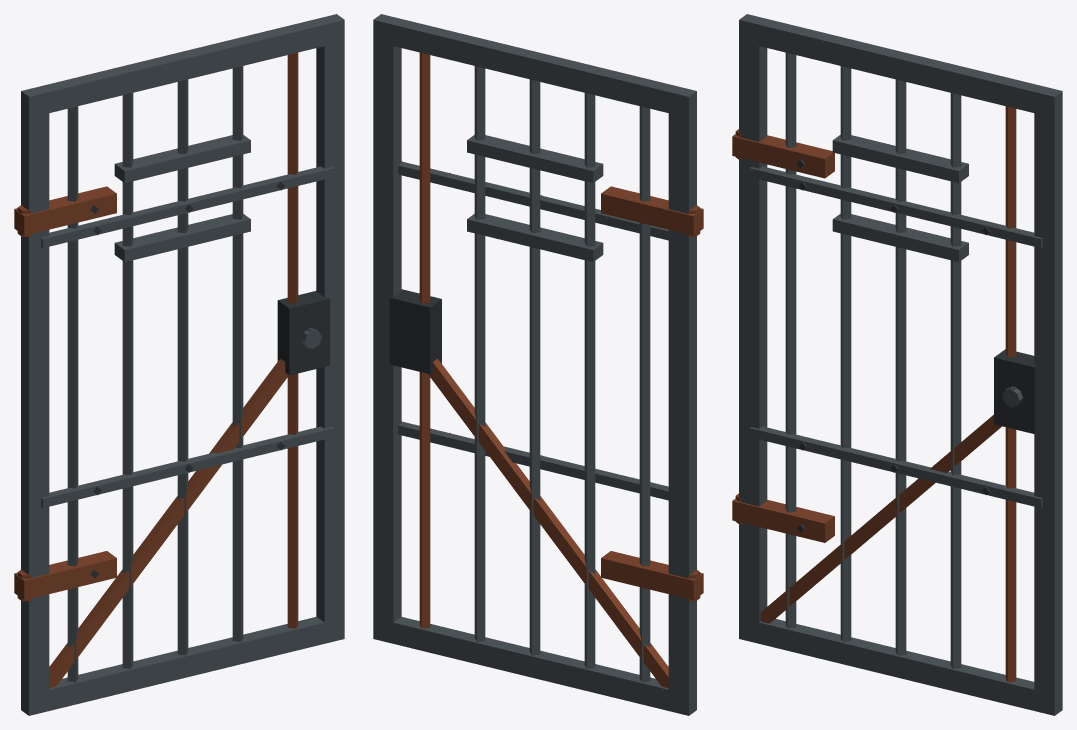
The model's file is mdvl_dungeon_door_cell_01.glb.
The picture shows the model from 3 angles, left to right: view 1: azimuth 30°, elevation 25°; view 2: azimuth 150°, elevation 25°; view 3: azimuth 330°, elevation 25°; orthographic projection.
Parts seen in each view (by area): view 1: mdvl_dungeon_door_cell_01; view 2: mdvl_dungeon_door_cell_01; view 3: mdvl_dungeon_door_cell_01.
Part boxes in pixels (x1,y1,x2,y2): mdvl_dungeon_door_cell_01: [14, 14, 344, 715]; mdvl_dungeon_door_cell_01: [373, 14, 703, 715]; mdvl_dungeon_door_cell_01: [732, 14, 1062, 715].
Size of the model in its own units: 1.11 by 2.04 by 0.091.
1 material, 1 textured.
